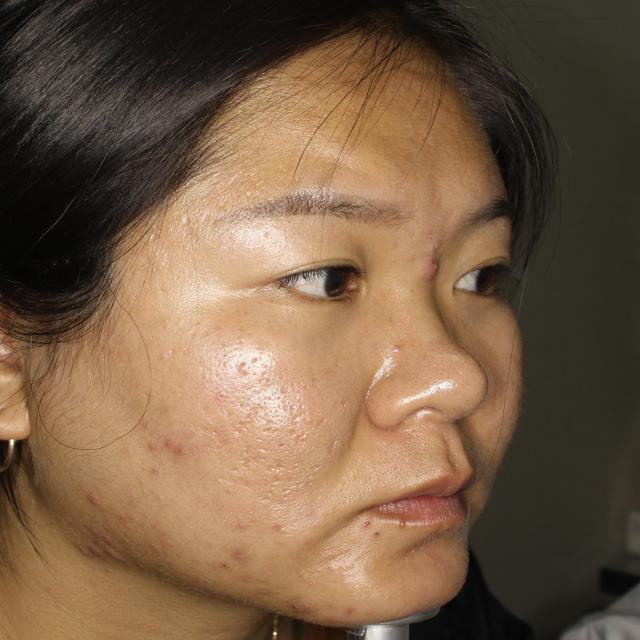acne: (284, 591, 320, 621), (418, 247, 443, 282), (231, 537, 256, 566), (82, 489, 108, 513), (256, 580, 275, 608), (167, 438, 188, 462), (144, 434, 160, 462)
